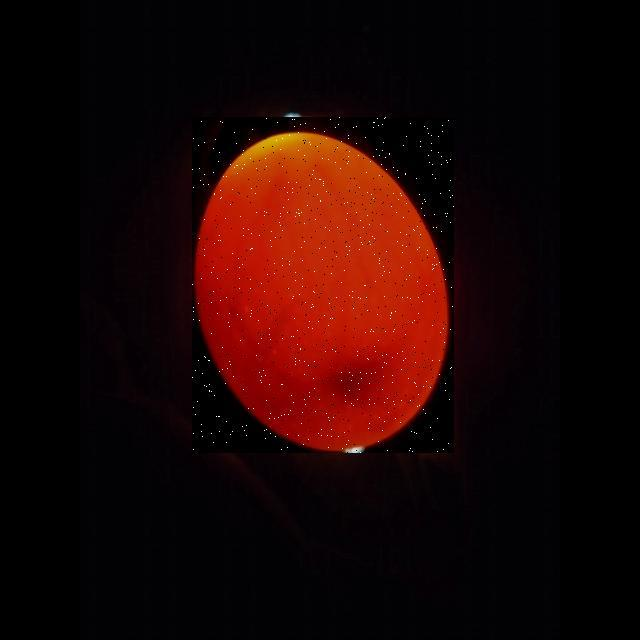Fertile: (192, 117, 454, 453)
